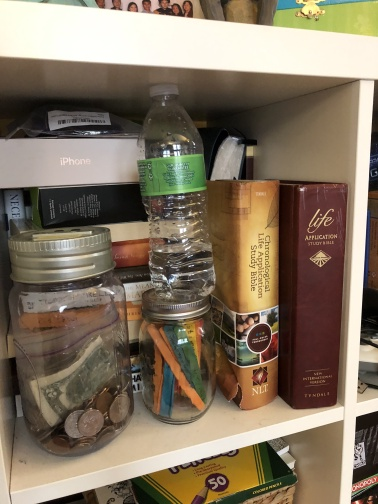bottle: (135, 81, 221, 305)
